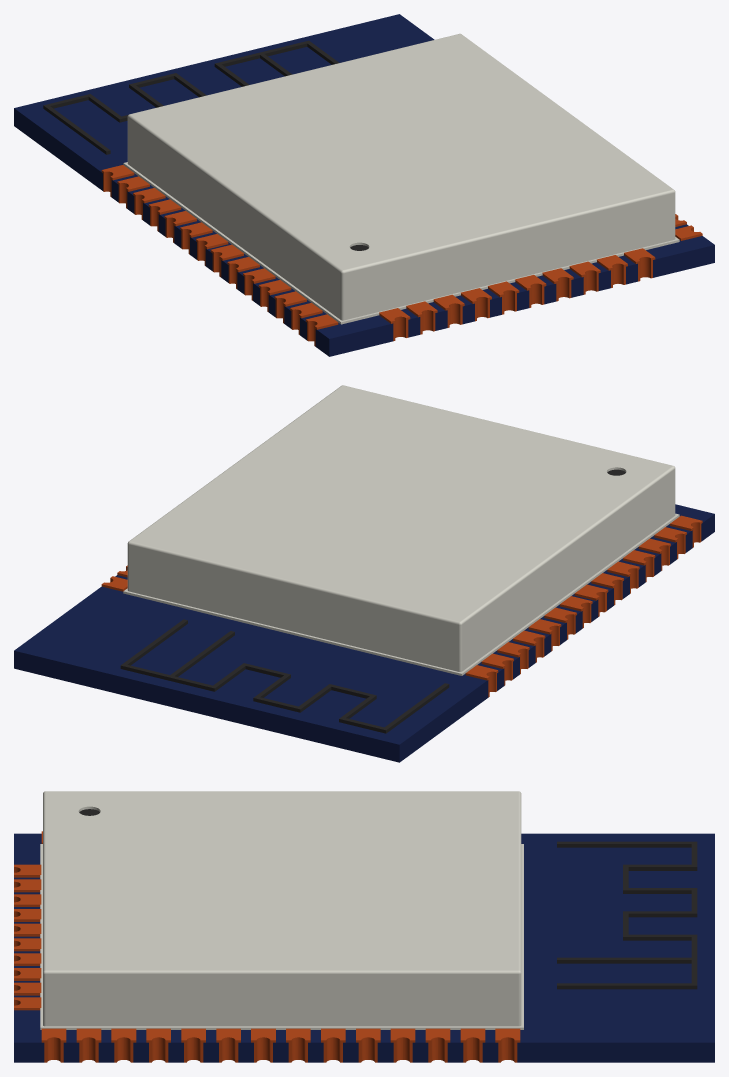
File: esp32-wroom-32.glb
3 renders of one model, top to bottom at view 1: azimuth 30°, elevation 25°; view 2: azimuth 150°, elevation 25°; view 3: azimuth 270°, elevation 25°, orthographic. The views are drawn at different scales.
Parts seen in each view (by area): view 1: esp32-wroom-32; view 2: esp32-wroom-32; view 3: esp32-wroom-32.
Boxes of the visible parts, x1,y1,x2,y2 form: esp32-wroom-32: [14, 14, 714, 356]; esp32-wroom-32: [14, 385, 714, 762]; esp32-wroom-32: [14, 791, 714, 1062].
Size of the model in its own units: 18 by 3.1 by 25.5.
